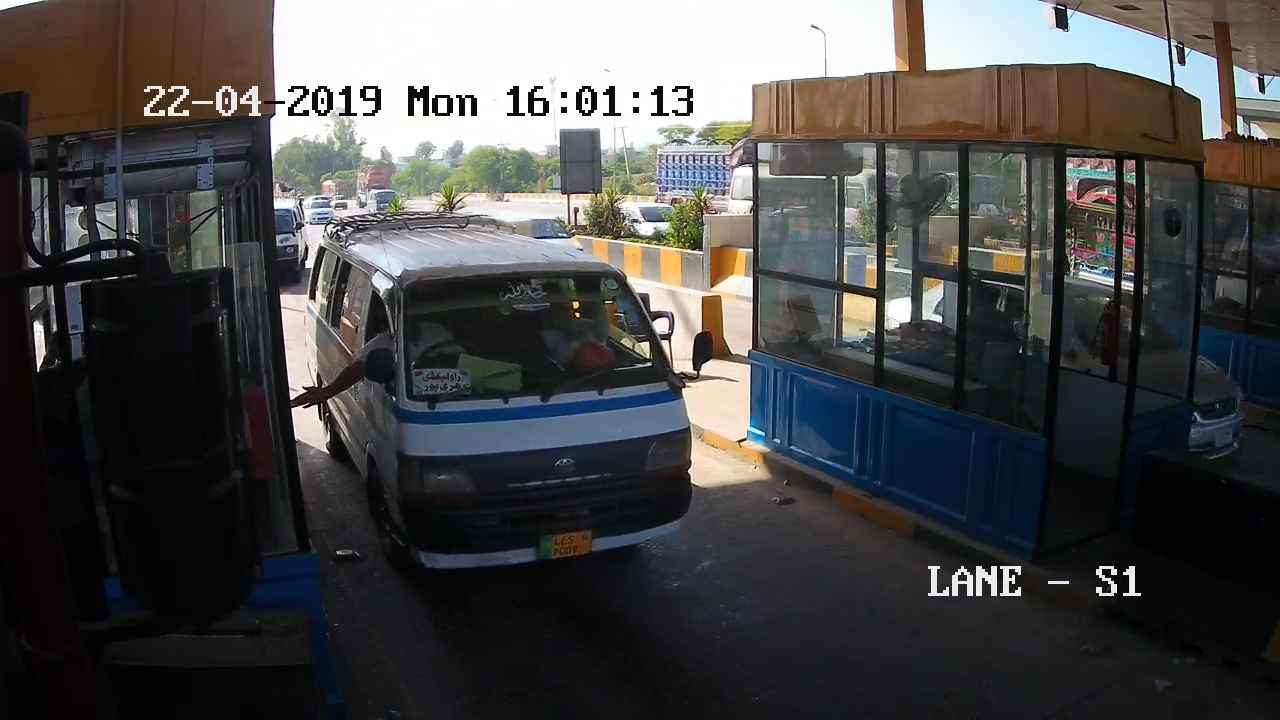car: (299, 207, 727, 633)
